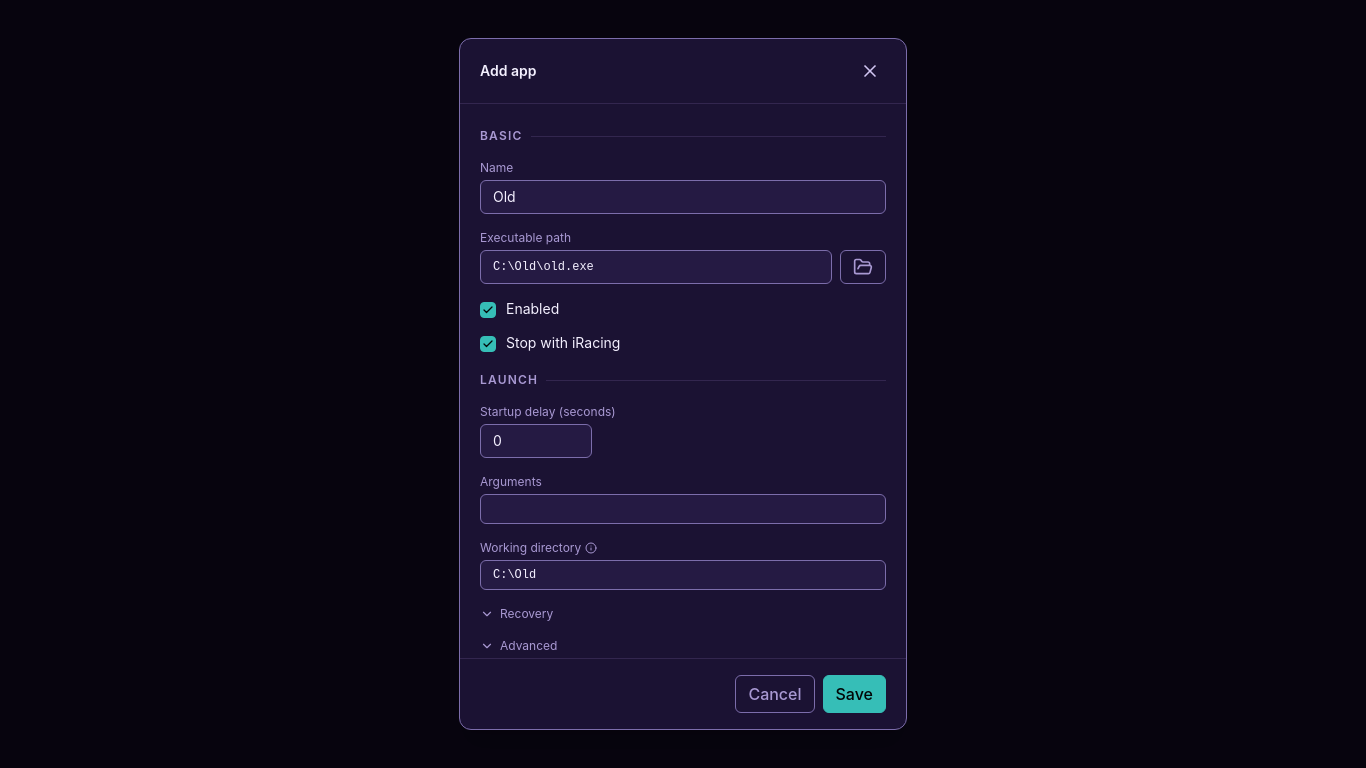
Test: AppFormModal exe browse › does not overwrite working_dir if it already has a value
This screenshot has width=1366, height=768.
Click the button named "browse" at x=863, y=267, box [840, 250, 886, 284]
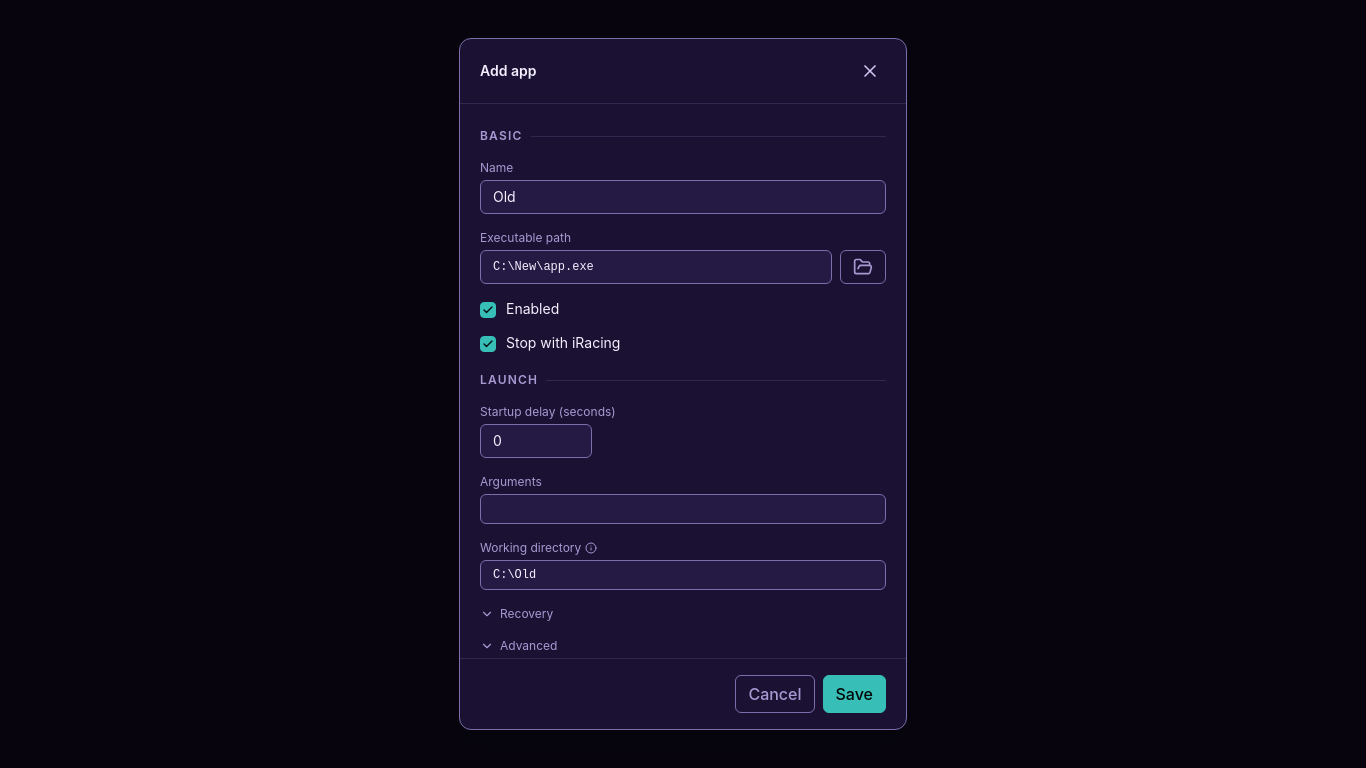
Check: the field labelled "Working directory" holds "C:\\Old", box [480, 560, 886, 590]
Check: the field labelled "Executable path" holds "C:\\New\\app.exe", box [480, 250, 832, 284]
